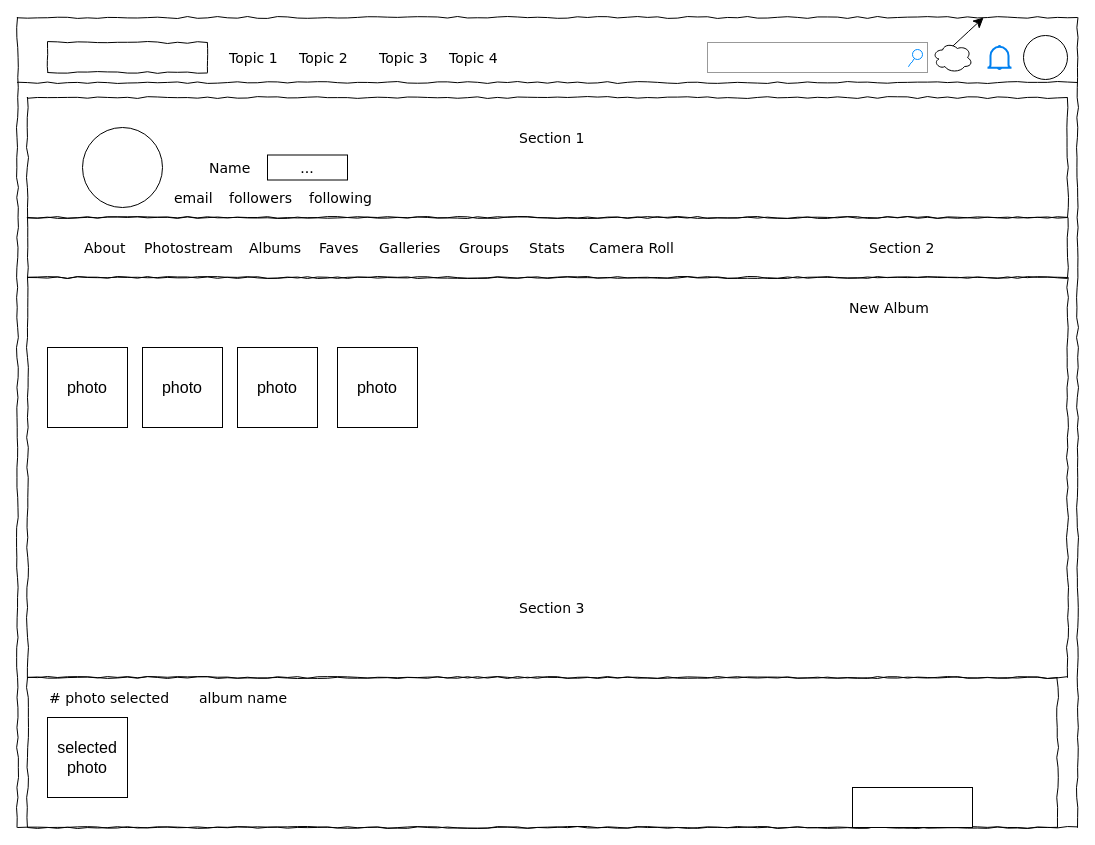
Some shapes in this 1095 by 845 pixel diagram are drawn without their labels. Here are the shapes that lost their labels. From the top down, the box of each, then its label:
(46, 42, 208, 72): LOGO
(706, 42, 928, 72): Search
(852, 786, 972, 828): Create new album
